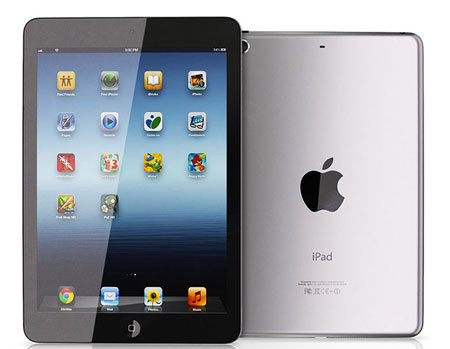apple: (286, 138, 355, 223)
